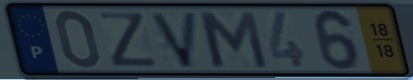0: (52, 8, 102, 71)
4: (267, 10, 308, 71)
6: (312, 8, 361, 73)
M: (194, 9, 272, 71)
V: (147, 9, 201, 70)
Z: (96, 10, 162, 69)
